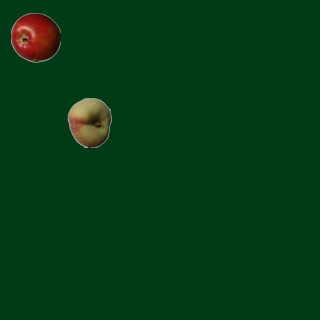Apple Braeburn: (10, 12, 60, 62)
Peach Flat: (64, 97, 114, 147)
